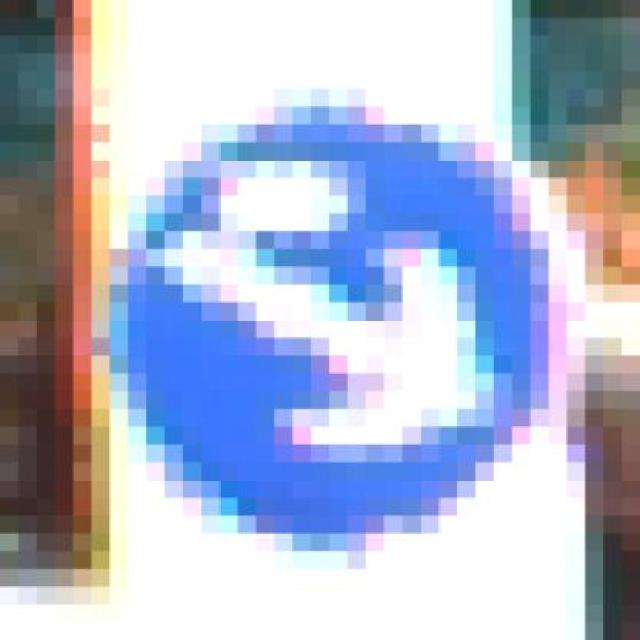Keep-Right: (110, 107, 604, 551)
